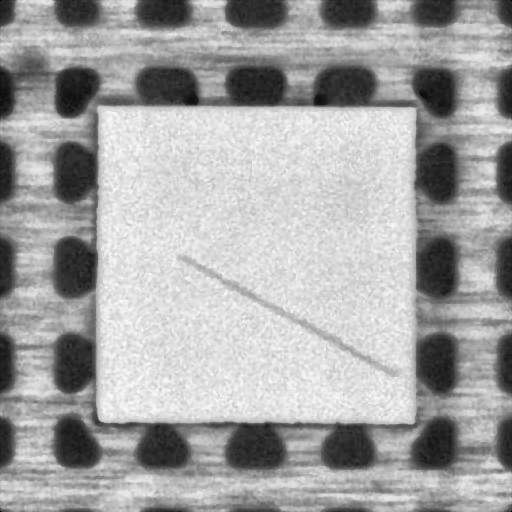DIE_CRACK: (178, 256, 394, 375)
